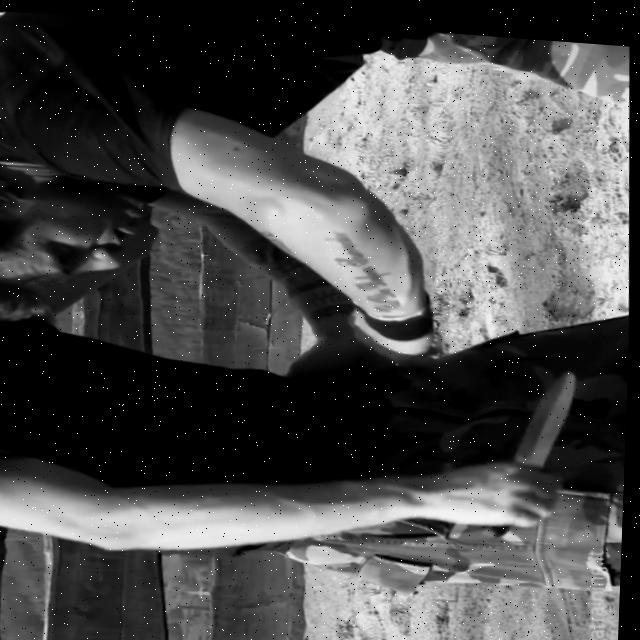knife: (511, 357, 579, 460)
